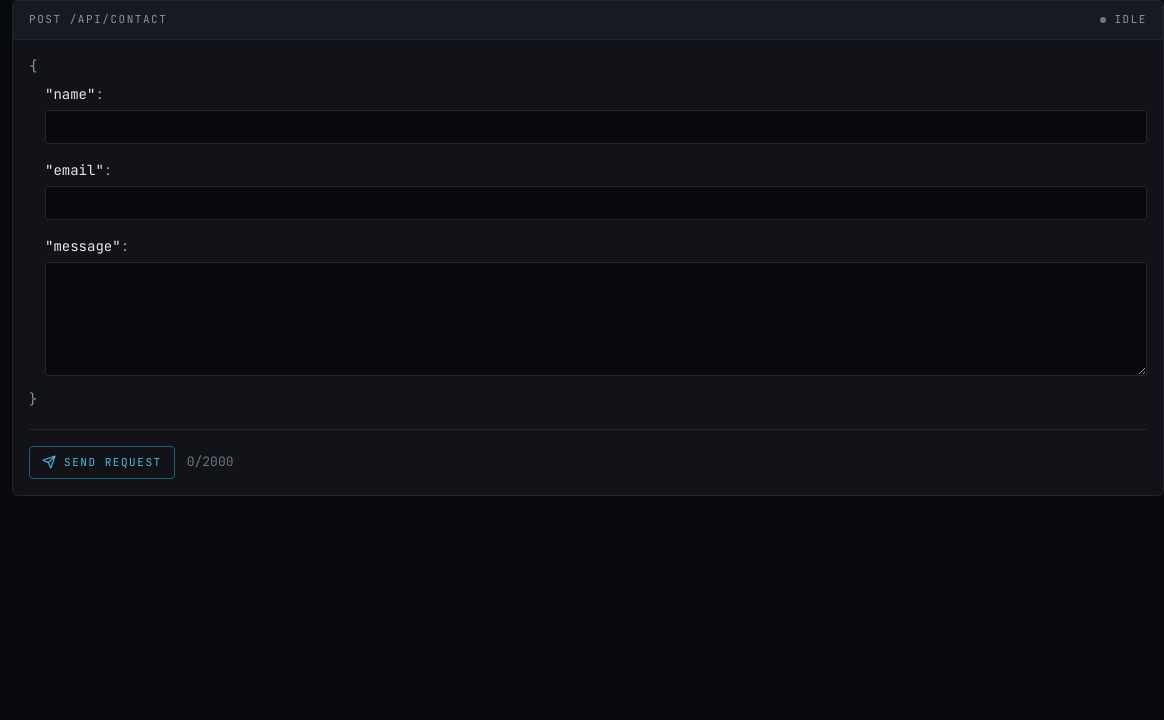
Test: ContactTerminal — honestidad cuando no se puede entregar › con 429 ofrece el email directo
Type "Ana Pérez" into the field labelled "\"name\":" at (596, 127), box [45, 110, 1147, 144]
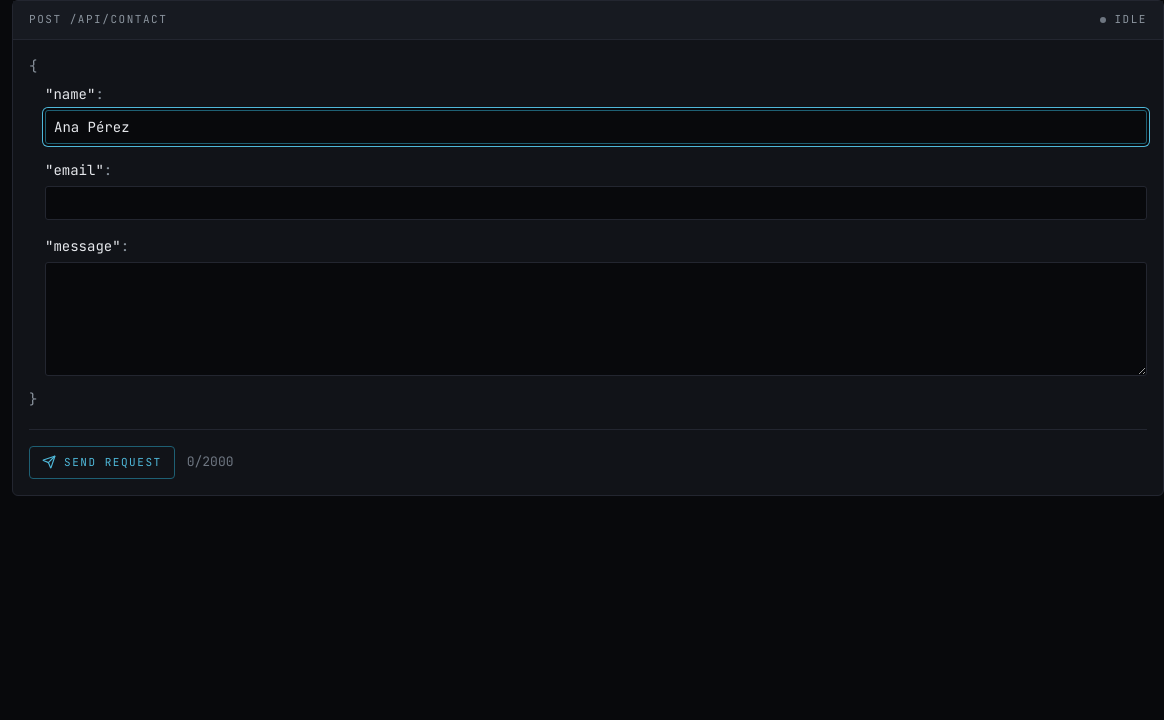
Type "ana@empresa.com" into the field labelled "\"email\":" at (596, 203), box [45, 186, 1147, 220]
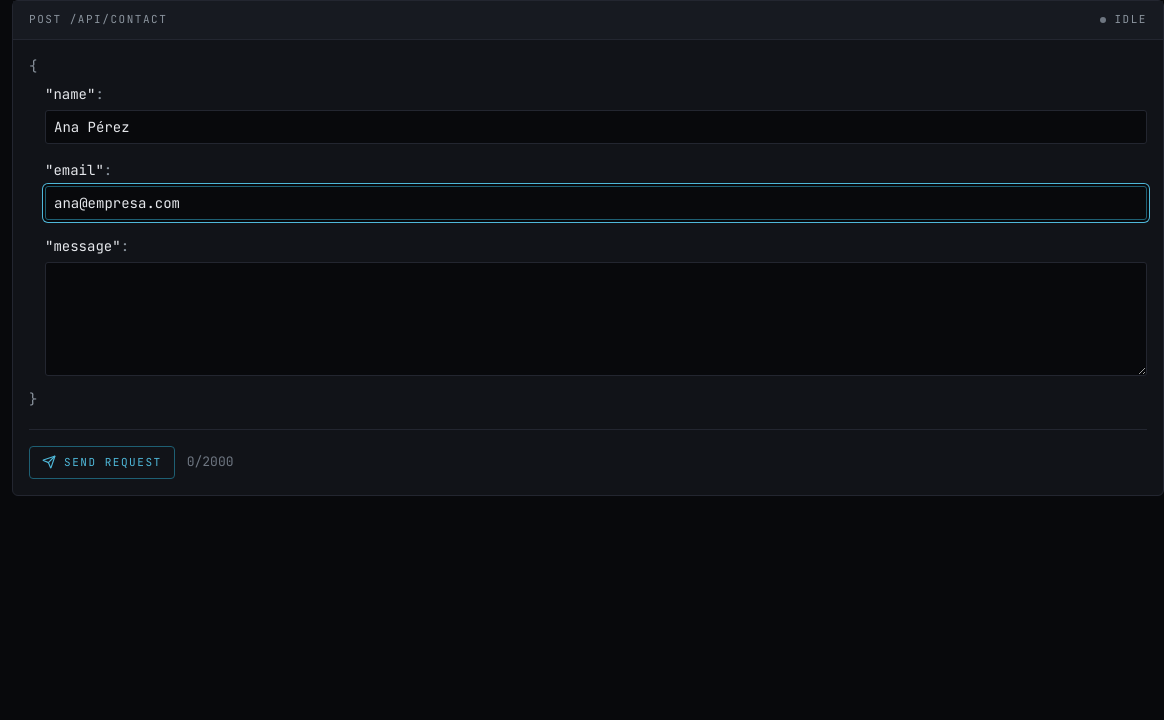
Type "Hola Cristian, te escribo por una posición backend con NestJS." into the text box labelled "\"message\":" at (596, 319), box [45, 262, 1147, 376]
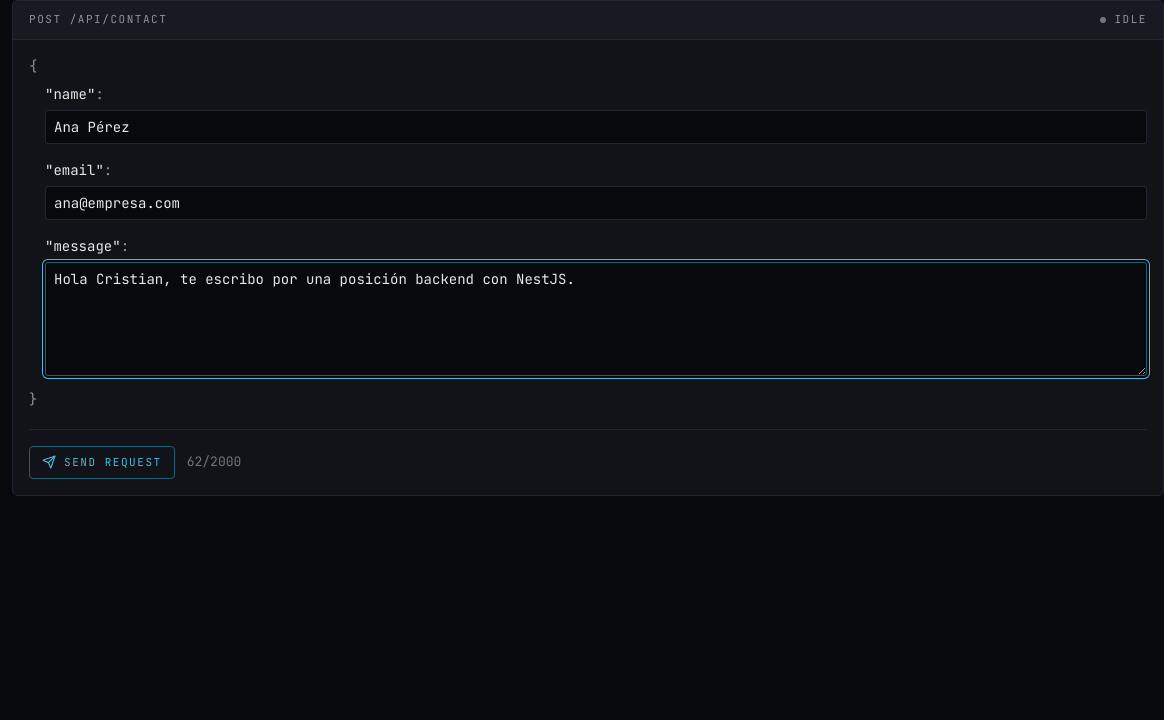
Click the button "send request" at (102, 462), box [29, 446, 175, 479]
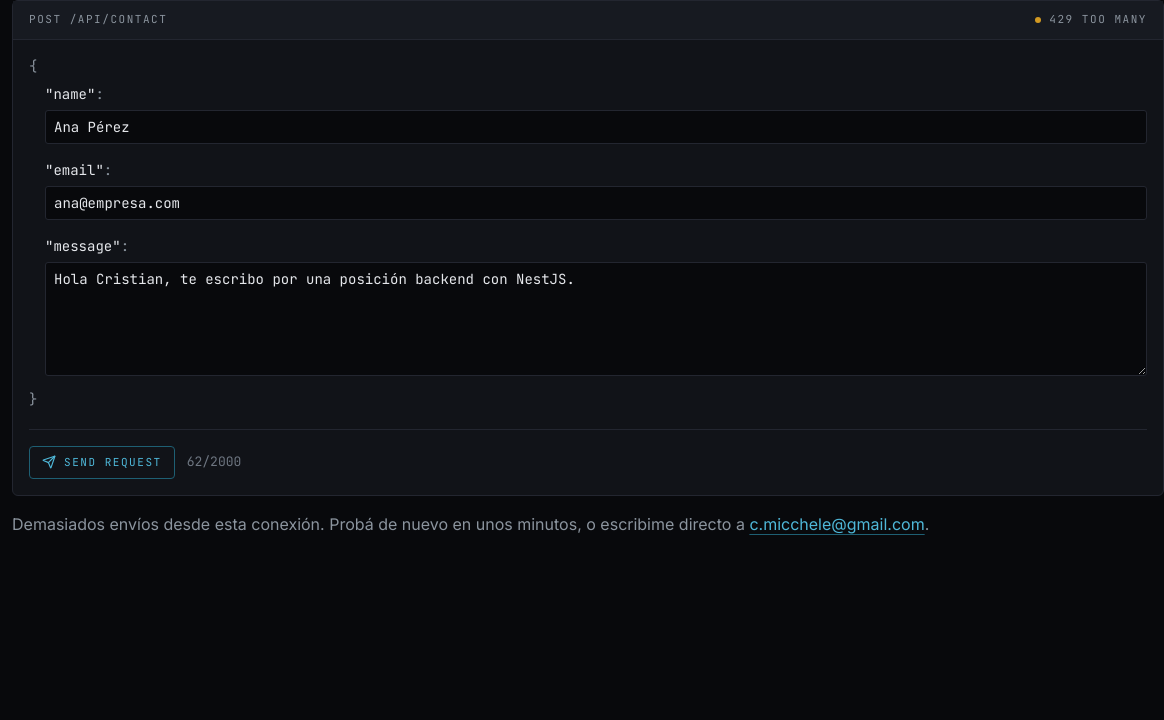
Check: the message shows "Demasiados envíos", box [12, 514, 745, 534]
Check: the message shows "c.micchele@gmail.com", box [749, 514, 925, 534]
